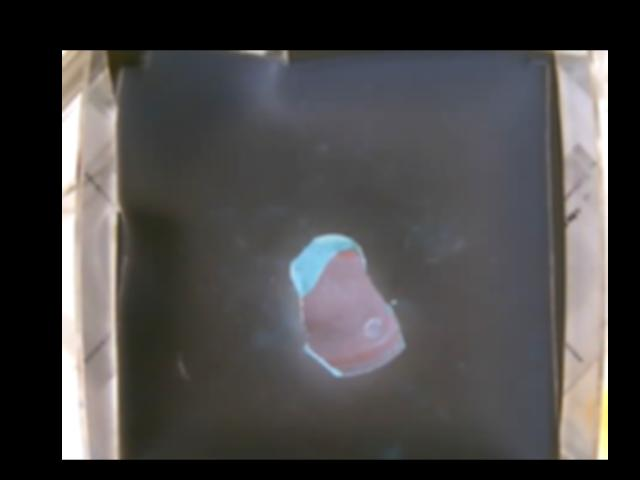China: (294, 231, 405, 374)
